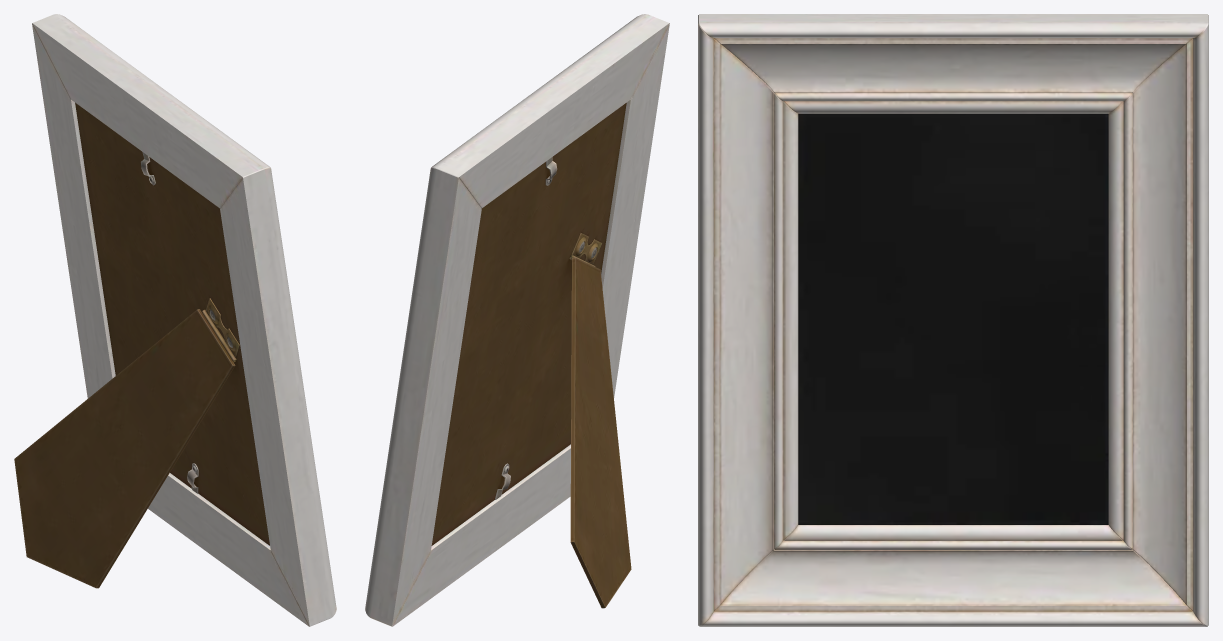
File: photo.glb
3 views of the same model, side by side, from view 1: azimuth 30°, elevation 25°; view 2: azimuth 150°, elevation 25°; view 3: azimuth 270°, elevation 25° (orthographic). The views are drawn at different scales.
Visible parts, largest first — view 1: standing_picture_frame_02, standing_picture_frame_02_back; view 2: standing_picture_frame_02, standing_picture_frame_02_back; view 3: standing_picture_frame_02.
Boxes of the visible parts, bbox=[...] form: standing_picture_frame_02: bbox=[14, 14, 336, 626]; standing_picture_frame_02_back: bbox=[75, 102, 269, 545]; standing_picture_frame_02: bbox=[365, 14, 669, 626]; standing_picture_frame_02_back: bbox=[431, 103, 626, 545]; standing_picture_frame_02: bbox=[698, 14, 1208, 626].
Size of the model in its own units: 0.1023 by 0.2664 by 0.2169.
4 materials, 4 textured.
